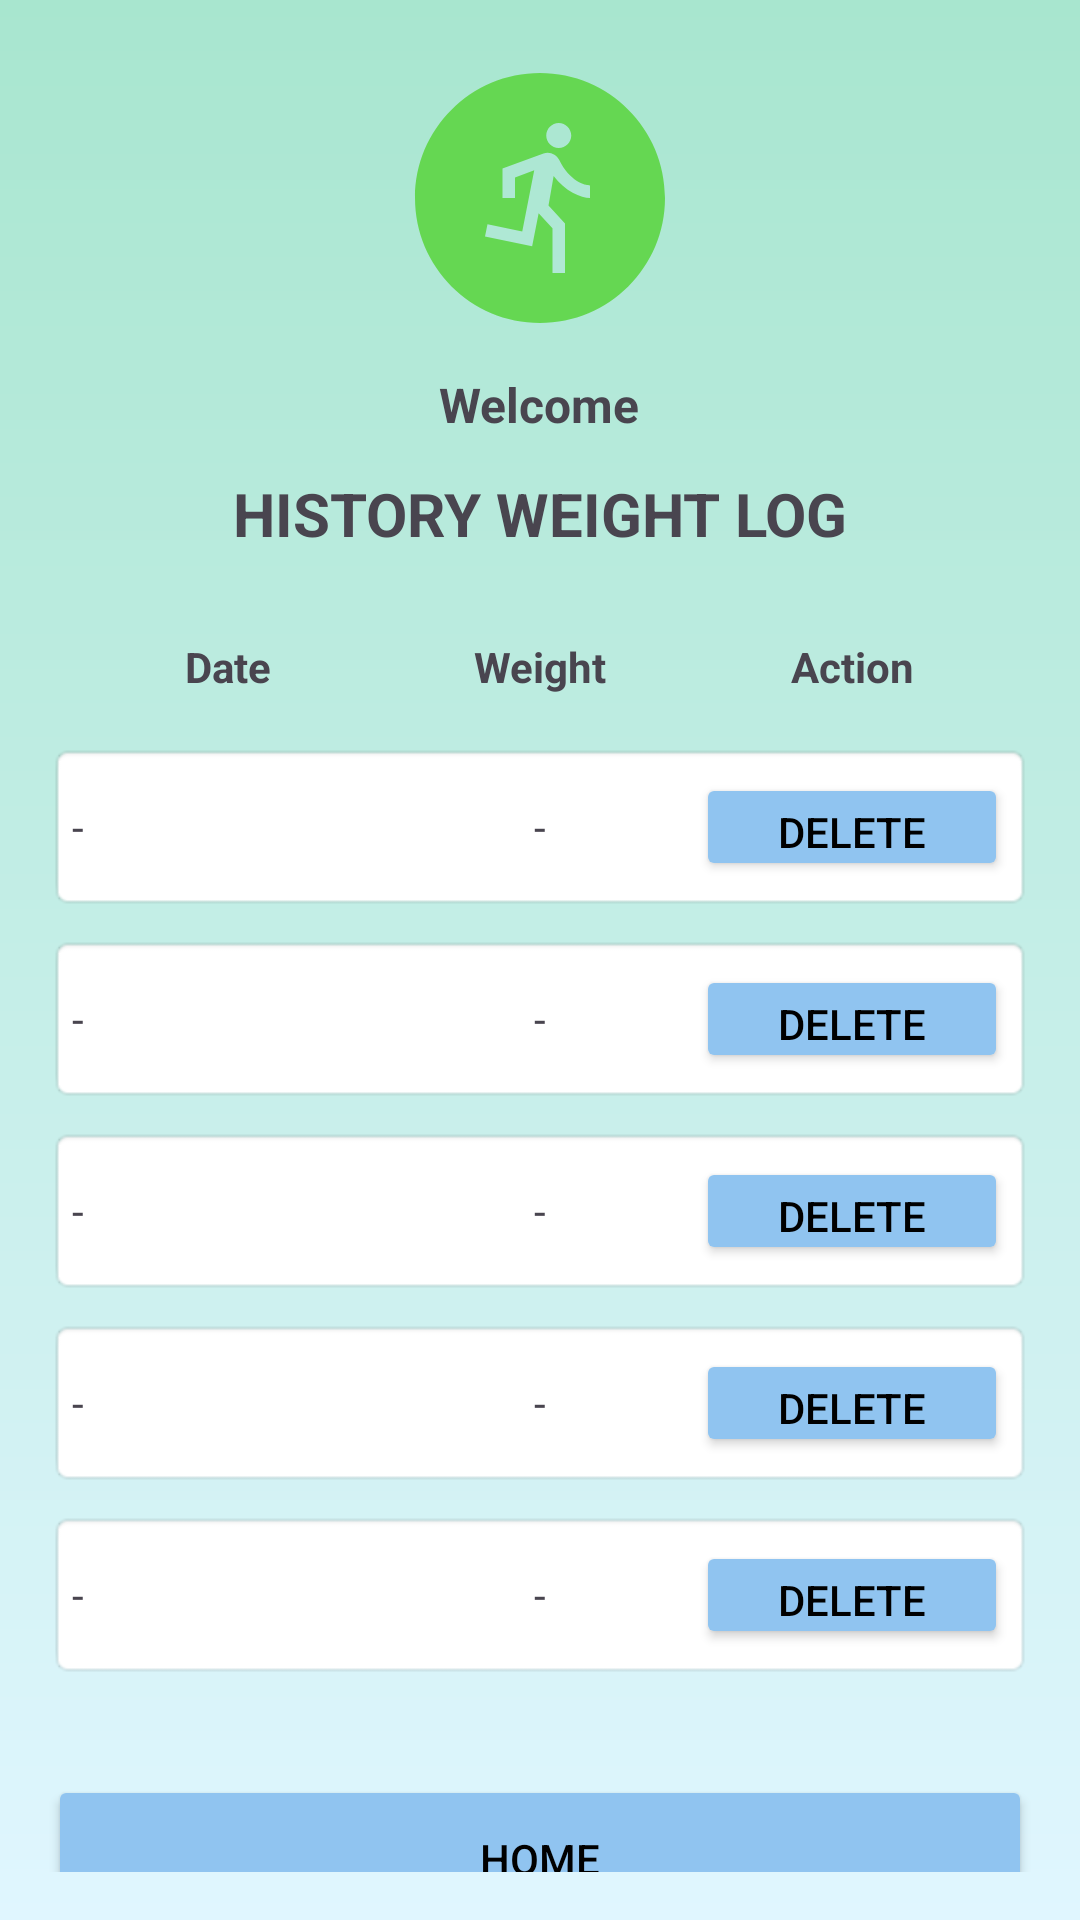

Where icons sit on this 1080px x 1920px app screen, as (left=x1, top=y1, right=x2, bottom=y2):
app icon: (left=415, top=73, right=665, bottom=323)
